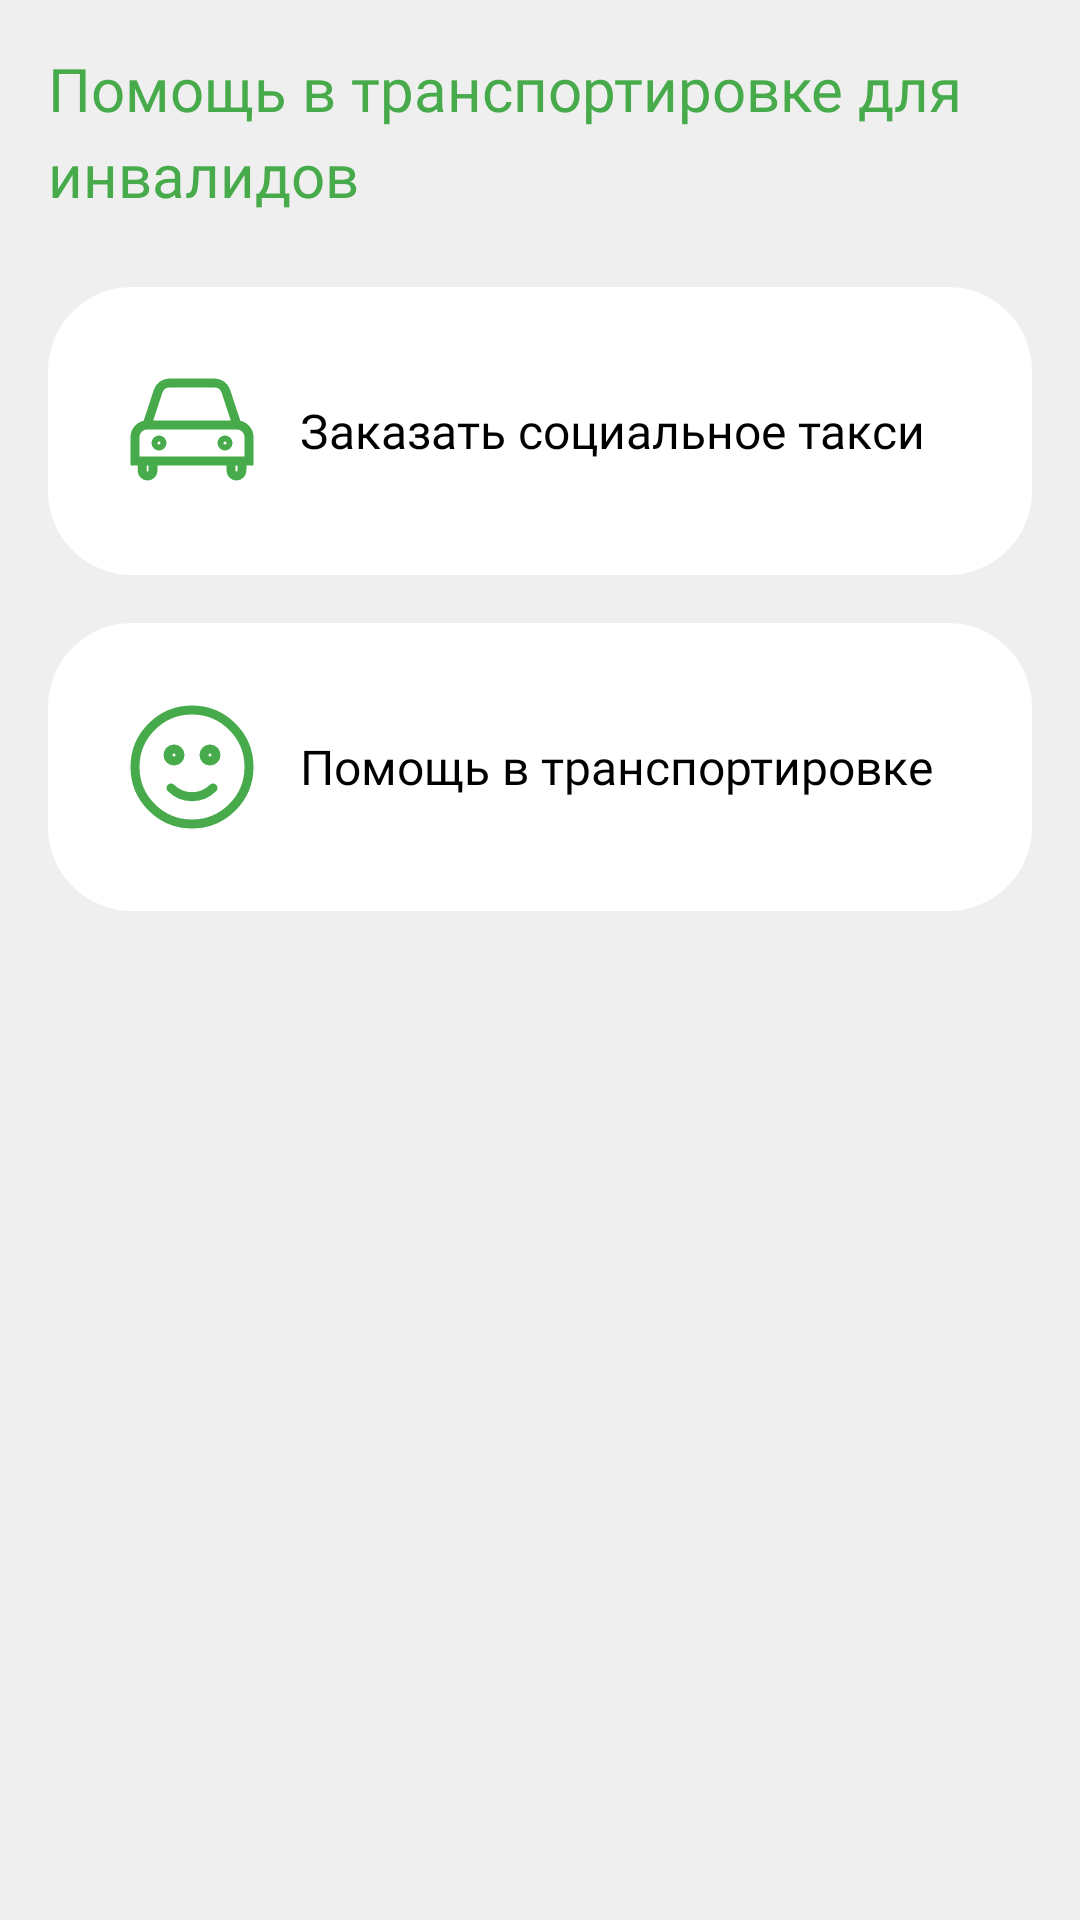

Icon click points for this 1080 x 1920 phone screenshot, format point (x, y):
car: point (192, 429)
smile: point (192, 767)
